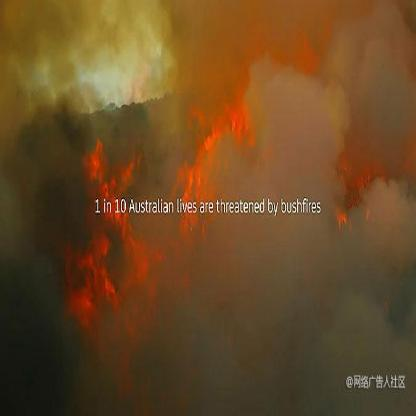fire: (64, 131, 165, 339), (175, 70, 254, 235)
